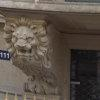Statue: (5, 11, 56, 84)
